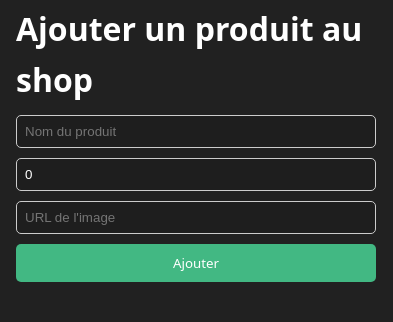
Test case: ProductForm.vue › Submit form successfully
// Fill form
Type "Produit test" into the field with test id "product-name" at (196, 132), box [16,115,376,148]
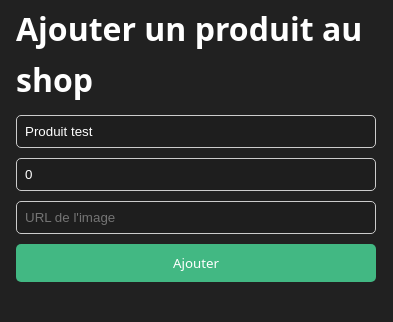
Replace the text in the number field with test id "product-price" with "10" at (196, 175), box [16,158,376,191]
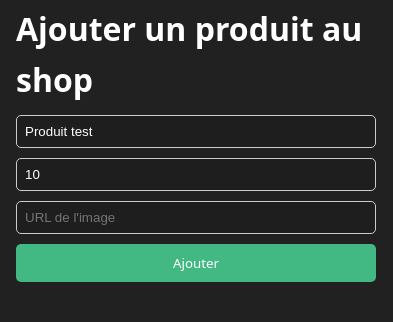
Type "http://image.com" into the field with test id "product-image" at (196, 218), box [16,201,376,234]
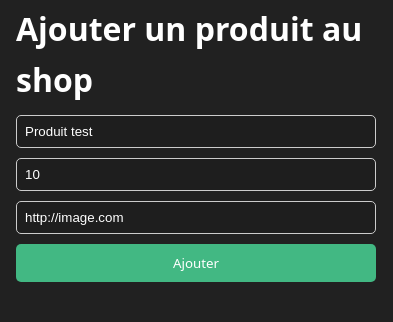
// Submit form
Submit the form, box [16,115,376,282]
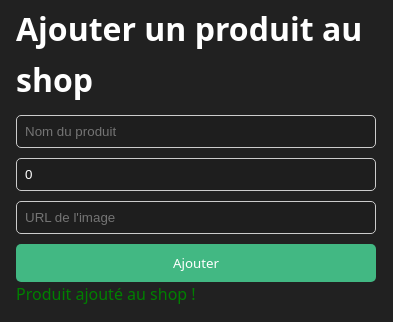
Expected: the text "Produit ajouté au shop !" is shown, [16,283,196,305]
Expected: the field with placeholder "Nom du produit" is empty, [16,115,376,148]
Expected: the number field holds "0", [16,158,376,191]
